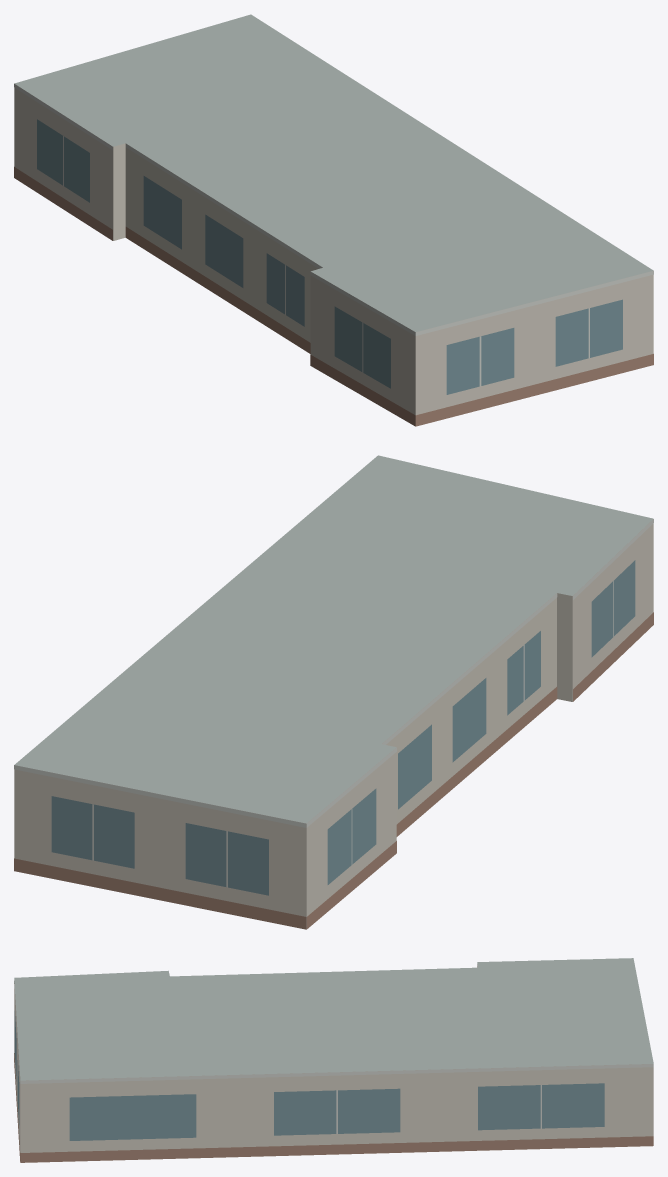
The model's file is survey-upis-32613123.glb.
3 views of the same model, one above another, from view 1: azimuth 30°, elevation 25°; view 2: azimuth 150°, elevation 25°; view 3: azimuth 270°, elevation 25° (orthographic). The views are drawn at different scales.
Visible parts, largest first — view 1: survey-upis-32613123.tmp; view 2: survey-upis-32613123.tmp; view 3: survey-upis-32613123.tmp.
Part boxes in pixels (x1,y1,x2,y2): survey-upis-32613123.tmp: [14, 14, 653, 426]; survey-upis-32613123.tmp: [14, 455, 653, 929]; survey-upis-32613123.tmp: [14, 958, 653, 1162].
Bounding box in the file's own units: 9.76 × 3.05 × 21.52.
